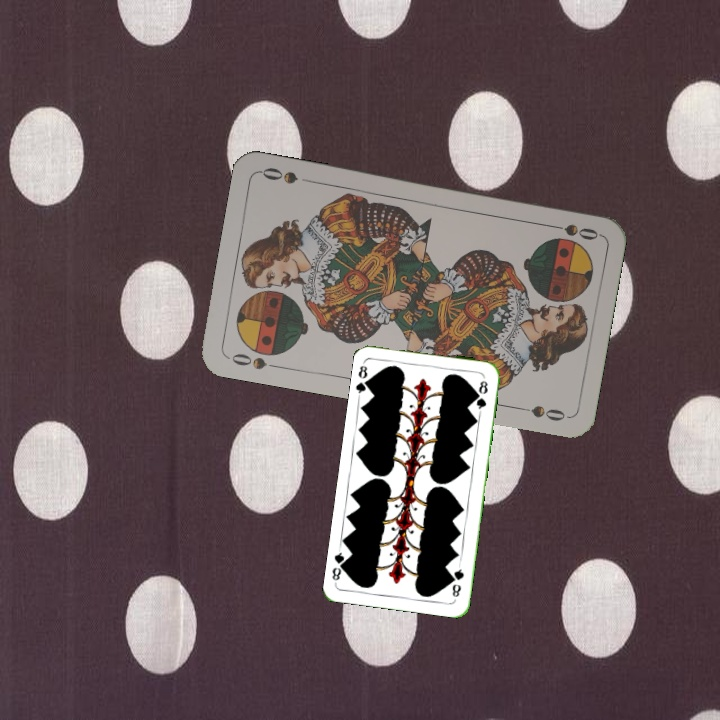G8: (352, 358, 374, 398), (448, 561, 466, 600)
SO: (542, 220, 601, 243), (224, 349, 283, 372)
